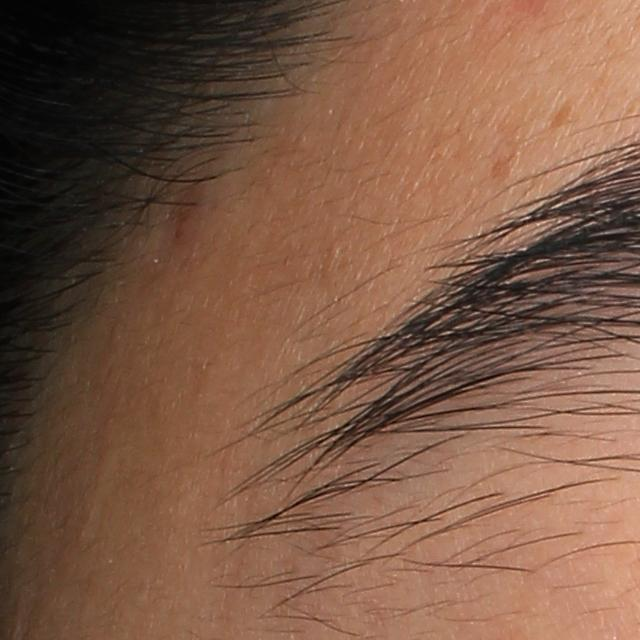melasma: (547, 97, 575, 137)
